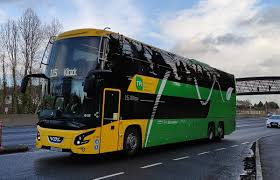bus: (21, 28, 236, 157)
